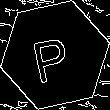P_N: (32, 27, 78, 83)
